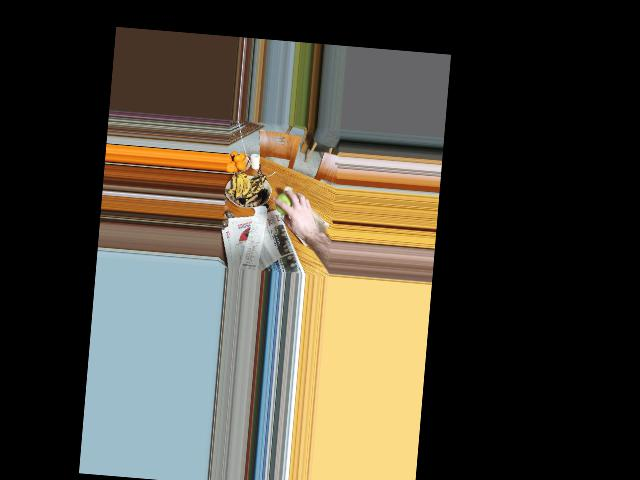apple: (274, 191, 300, 217)
